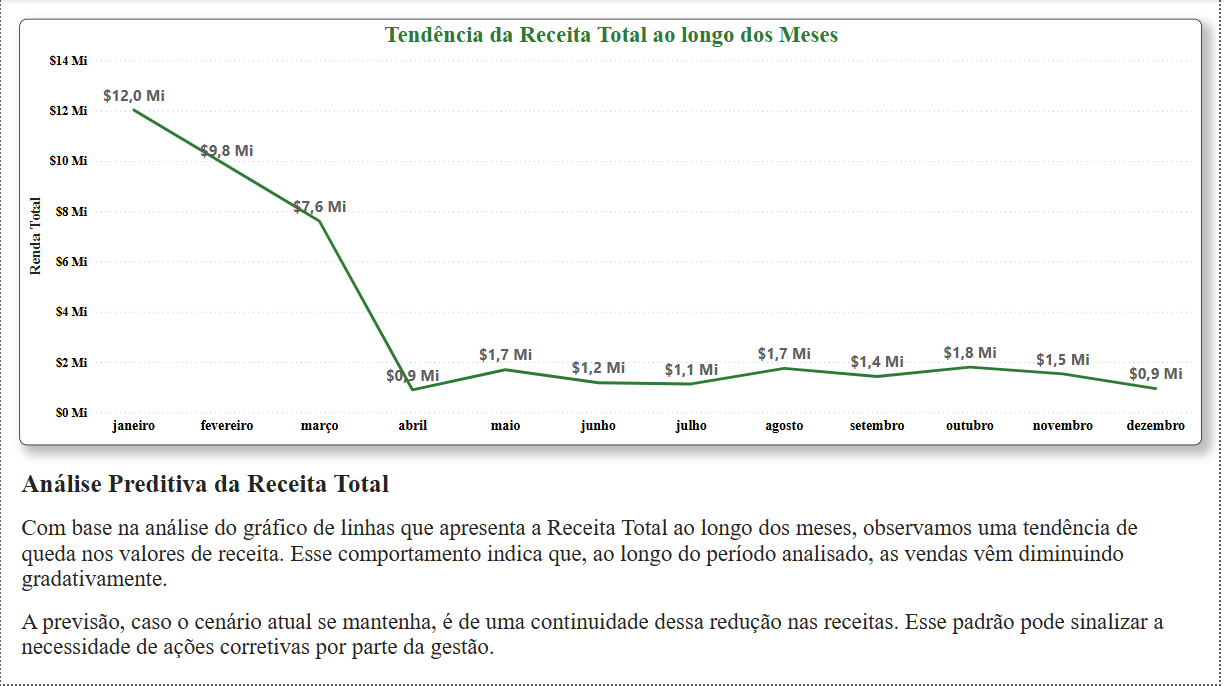

This screenshot's page, from the dashboard's own definition file:
{"tool":"powerbi","page":{"name":"Preditiva","canvas":[1280,720],"ordinal":2},"visuals":[{"type":"lineChart","title":"Tendência da Receita Total ao longo dos Meses ","fields":{"Category":["dataset-IAN-Store.Data.Variation.Hierarquia de datas.Mês"],"Y":["dataset-IAN-Store.ReceitaBrutaTotal"]},"box":[18.6,20.3,1242.5,448],"z":0},{"type":"textbox","box":[16.9,488.6,1242.5,231.6],"z":1000}]}

Visuals, with their boxes in screenshot pixels (x1, y1, x2, y2), scaled from the page's 1280x720 canvas onto the 1224x686 screenshot:
"Tendência da Receita Total ao longo dos Meses " lineChart: crop(18, 19, 1206, 446)
textbox: crop(16, 466, 1204, 685)
